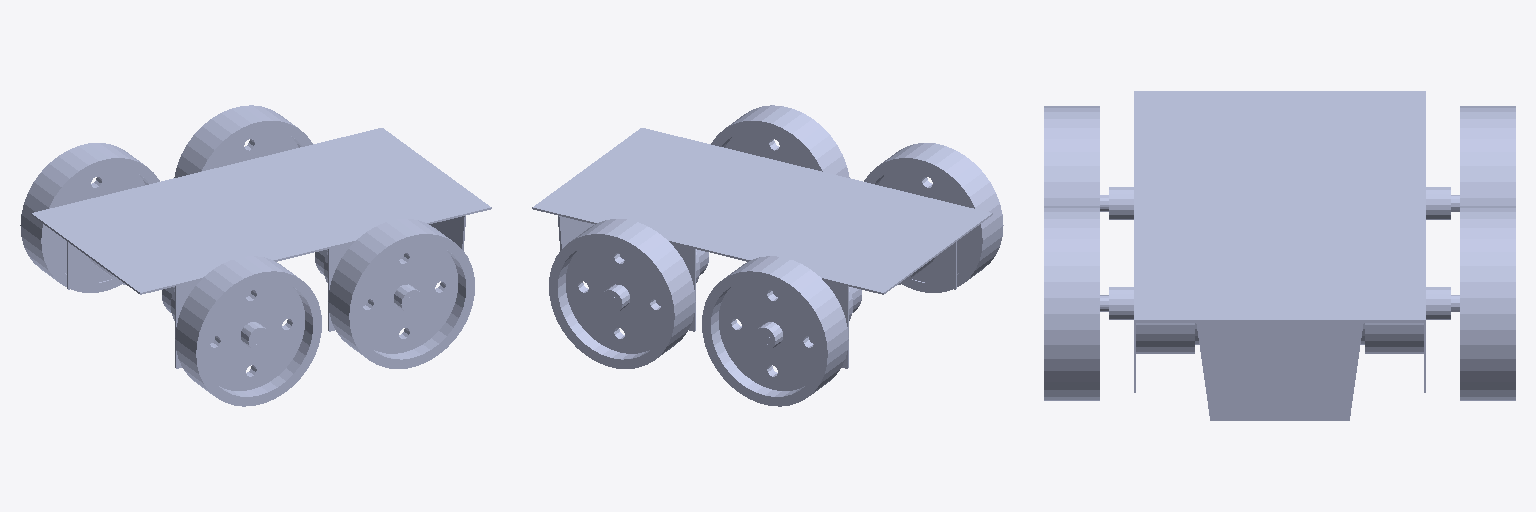
robot.urdf — mobile_robot_base:
<?xml version="1.0" encoding="utf-8"?>
<!-- This URDF was automatically created by SolidWorks to URDF Exporter! Originally created by [author] ([email redacted]) 
     Commit Version: 1.5.1-0-g916b5db  Build Version: 1.5.7152.31018
     For more information, please see http://wiki.ros.org/sw_urdf_exporter -->
<robot
  name="mobile_robot_base">
  <link
    name="base_link">
    <inertial>
      <origin
        xyz="0.0079079 6.6104E-17 0.048698"
        rpy="0 0 0" />
      <mass
        value="0.033423" />
      <inertia
        ixx="5.1402E-05"
        ixy="1.2201E-19"
        ixz="4.9133E-06"
        iyy="0.00011957"
        iyz="-4.673E-20"
        izz="0.00015732" />
    </inertial>
    <visual>
      <origin
        xyz="0 0 0"
        rpy="0 0 0" />
      <geometry>
        <mesh
          filename="package://mobile_robot_base/meshes/base_link.STL" />
      </geometry>
      <material
        name="">
        <color
          rgba="0.79216 0.81961 0.93333 1" />
      </material>
    </visual>
    <collision>
      <origin
        xyz="0 0 0"
        rpy="0 0 0" />
      <geometry>
        <mesh
          filename="package://mobile_robot_base/meshes/base_link.STL" />
      </geometry>
    </collision>
  </link>
  <link
    name="left_front_wheel">
    <inertial>
      <origin
        xyz="-1.7347E-16 0.01 2.7756E-17"
        rpy="0 0 0" />
      <mass
        value="0.035123" />
      <inertia
        ixx="1.4693E-05"
        ixy="2.2926E-21"
        ixz="-3.9204E-22"
        iyy="2.7858E-05"
        iyz="-7.9353E-25"
        izz="1.4693E-05" />
    </inertial>
    <visual>
      <origin
        xyz="0 0 0"
        rpy="0 0 0" />
      <geometry>
        <mesh
          filename="package://mobile_robot_base/meshes/left_front_wheel.STL" />
      </geometry>
      <material
        name="">
        <color
          rgba="0.79216 0.81961 0.93333 1" />
      </material>
    </visual>
    <collision>
      <origin
        xyz="0 0 0"
        rpy="0 0 0" />
      <geometry>
        <mesh
          filename="package://mobile_robot_base/meshes/left_front_wheel.STL" />
      </geometry>
    </collision>
  </link>
  <joint
    name="left_front_wheel"
    type="continuous">
    <origin
      xyz="0.035 0.0645 0.036"
      rpy="0 0 0" />
    <parent
      link="base_link" />
    <child
      link="left_front_wheel" />
    <axis
      xyz="0 1 0" />
  </joint>
  <link
    name="left_rear_wheel">
    <inertial>
      <origin
        xyz="2.0817E-17 0.01 3.4694E-17"
        rpy="0 0 0" />
      <mass
        value="0.035123" />
      <inertia
        ixx="1.4693E-05"
        ixy="1.1418E-21"
        ixz="-3.9204E-22"
        iyy="2.7858E-05"
        iyz="-1.4418E-24"
        izz="1.4693E-05" />
    </inertial>
    <visual>
      <origin
        xyz="0 0 0"
        rpy="0 0 0" />
      <geometry>
        <mesh
          filename="package://mobile_robot_base/meshes/left_rear_wheel.STL" />
      </geometry>
      <material
        name="">
        <color
          rgba="0.79216 0.81961 0.93333 1" />
      </material>
    </visual>
    <collision>
      <origin
        xyz="0 0 0"
        rpy="0 0 0" />
      <geometry>
        <mesh
          filename="package://mobile_robot_base/meshes/left_rear_wheel.STL" />
      </geometry>
    </collision>
  </link>
  <joint
    name="left_rear_wheel"
    type="continuous">
    <origin
      xyz="-0.05 0.0645 0.036"
      rpy="0 0 0" />
    <parent
      link="base_link" />
    <child
      link="left_rear_wheel" />
    <axis
      xyz="0 1 0" />
  </joint>
  <link
    name="right_front_wheel">
    <inertial>
      <origin
        xyz="-1.9429E-16 -0.01 3.4694E-17"
        rpy="0 0 0" />
      <mass
        value="0.035123" />
      <inertia
        ixx="1.4693E-05"
        ixy="1.9903E-21"
        ixz="-3.9204E-22"
        iyy="2.7858E-05"
        iyz="-2.4827E-25"
        izz="1.4693E-05" />
    </inertial>
    <visual>
      <origin
        xyz="0 0 0"
        rpy="0 0 0" />
      <geometry>
        <mesh
          filename="package://mobile_robot_base/meshes/right_front_wheel.STL" />
      </geometry>
      <material
        name="">
        <color
          rgba="0.79216 0.81961 0.93333 1" />
      </material>
    </visual>
    <collision>
      <origin
        xyz="0 0 0"
        rpy="0 0 0" />
      <geometry>
        <mesh
          filename="package://mobile_robot_base/meshes/right_front_wheel.STL" />
      </geometry>
    </collision>
  </link>
  <joint
    name="right_front_wheel"
    type="continuous">
    <origin
      xyz="0.035 -0.0644999999999999 0.036"
      rpy="0 0 0" />
    <parent
      link="base_link" />
    <child
      link="right_front_wheel" />
    <axis
      xyz="0 1 0" />
  </joint>
  <link
    name="right_rear_wheel">
    <inertial>
      <origin
        xyz="0 -0.01 2.0817E-17"
        rpy="0 0 0" />
      <mass
        value="0.035123" />
      <inertia
        ixx="1.4693E-05"
        ixy="1.1418E-21"
        ixz="-3.9204E-22"
        iyy="2.7858E-05"
        iyz="-1.4418E-24"
        izz="1.4693E-05" />
    </inertial>
    <visual>
      <origin
        xyz="0 0 0"
        rpy="0 0 0" />
      <geometry>
        <mesh
          filename="package://mobile_robot_base/meshes/right_rear_wheel.STL" />
      </geometry>
      <material
        name="">
        <color
          rgba="0.79216 0.81961 0.93333 1" />
      </material>
    </visual>
    <collision>
      <origin
        xyz="0 0 0"
        rpy="0 0 0" />
      <geometry>
        <mesh
          filename="package://mobile_robot_base/meshes/right_rear_wheel.STL" />
      </geometry>
    </collision>
  </link>
  <joint
    name="right_rear_wheel"
    type="continuous">
    <origin
      xyz="-0.05 -0.0645 0.036"
      rpy="0 0 0" />
    <parent
      link="base_link" />
    <child
      link="right_rear_wheel" />
    <axis
      xyz="0 1 0" />
  </joint>
  <link
    name="motors">
    <inertial>
      <origin
        xyz="0.0425 2.7756E-17 5.2768E-17"
        rpy="0 0 0" />
      <mass
        value="0.13221" />
      <inertia
        ixx="2.6813E-05"
        ixy="1.9172E-37"
        ixz="-4.3815E-21"
        iyy="2.6813E-05"
        iyz="5.5915E-22"
        izz="1.8398E-05" />
    </inertial>
    <visual>
      <origin
        xyz="0 0 0"
        rpy="0 0 0" />
      <geometry>
        <mesh
          filename="package://mobile_robot_base/meshes/motors.STL" />
      </geometry>
      <material
        name="">
        <color
          rgba="0.79216 0.81961 0.93333 1" />
      </material>
    </visual>
    <collision>
      <origin
        xyz="0 0 0"
        rpy="0 0 0" />
      <geometry>
        <mesh
          filename="package://mobile_robot_base/meshes/motors.STL" />
      </geometry>
    </collision>
  </link>
  <joint
    name="motors"
    type="fixed">
    <origin
      xyz="0.035 0 0.036"
      rpy="1.5708 0 -3.1416" />
    <parent
      link="base_link" />
    <child
      link="motors" />
    <axis
      xyz="0 0 1" />
  </joint>
</robot>

--- Facts derived from the render (not from the file) ---
3 views of the same robot in one strip: view 1: azimuth 30°, elevation 25°; view 2: azimuth 150°, elevation 25°; view 3: azimuth 270°, elevation 25° (orthographic).
Robot: mobile_robot_base — 6 links, 5 joints (4 continuous, 1 fixed); root link base_link; default pose: all joints at 0.
Links seen in each view (by area): view 1: base_link, right_rear_wheel, right_front_wheel, left_rear_wheel, left_front_wheel, motors; view 2: base_link, left_front_wheel, left_rear_wheel, right_rear_wheel, right_front_wheel, motors; view 3: base_link, left_front_wheel, right_front_wheel, motors, left_rear_wheel, right_rear_wheel.
Boxes of the visible links, box(x1,y1,x2,y2) form: base_link: box(31, 128, 491, 368); right_rear_wheel: box(175, 256, 321, 406); right_front_wheel: box(328, 219, 474, 368); left_rear_wheel: box(20, 143, 159, 292); left_front_wheel: box(174, 105, 312, 177); motors: box(89, 249, 417, 344); base_link: box(532, 128, 992, 368); left_front_wheel: box(549, 219, 695, 368); left_rear_wheel: box(702, 256, 848, 406); right_rear_wheel: box(864, 143, 1003, 292); right_front_wheel: box(711, 105, 849, 177); motors: box(606, 249, 934, 344); base_link: box(1134, 91, 1425, 420); left_front_wheel: box(1460, 206, 1515, 400); right_front_wheel: box(1044, 206, 1099, 400); motors: box(1100, 187, 1459, 353); left_rear_wheel: box(1460, 106, 1515, 205); right_rear_wheel: box(1044, 106, 1099, 205).
Bounding box of the posed robot: 0.195 × 0.169 × 0.0698 m (x, y, z).
Meshes: 6 distinct files referenced, 6 mesh visuals loaded (6 binary STL).